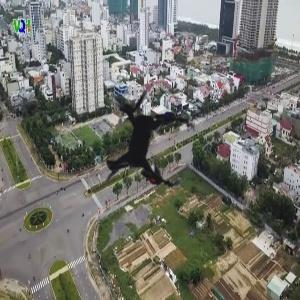drone: (54, 49, 237, 232)
